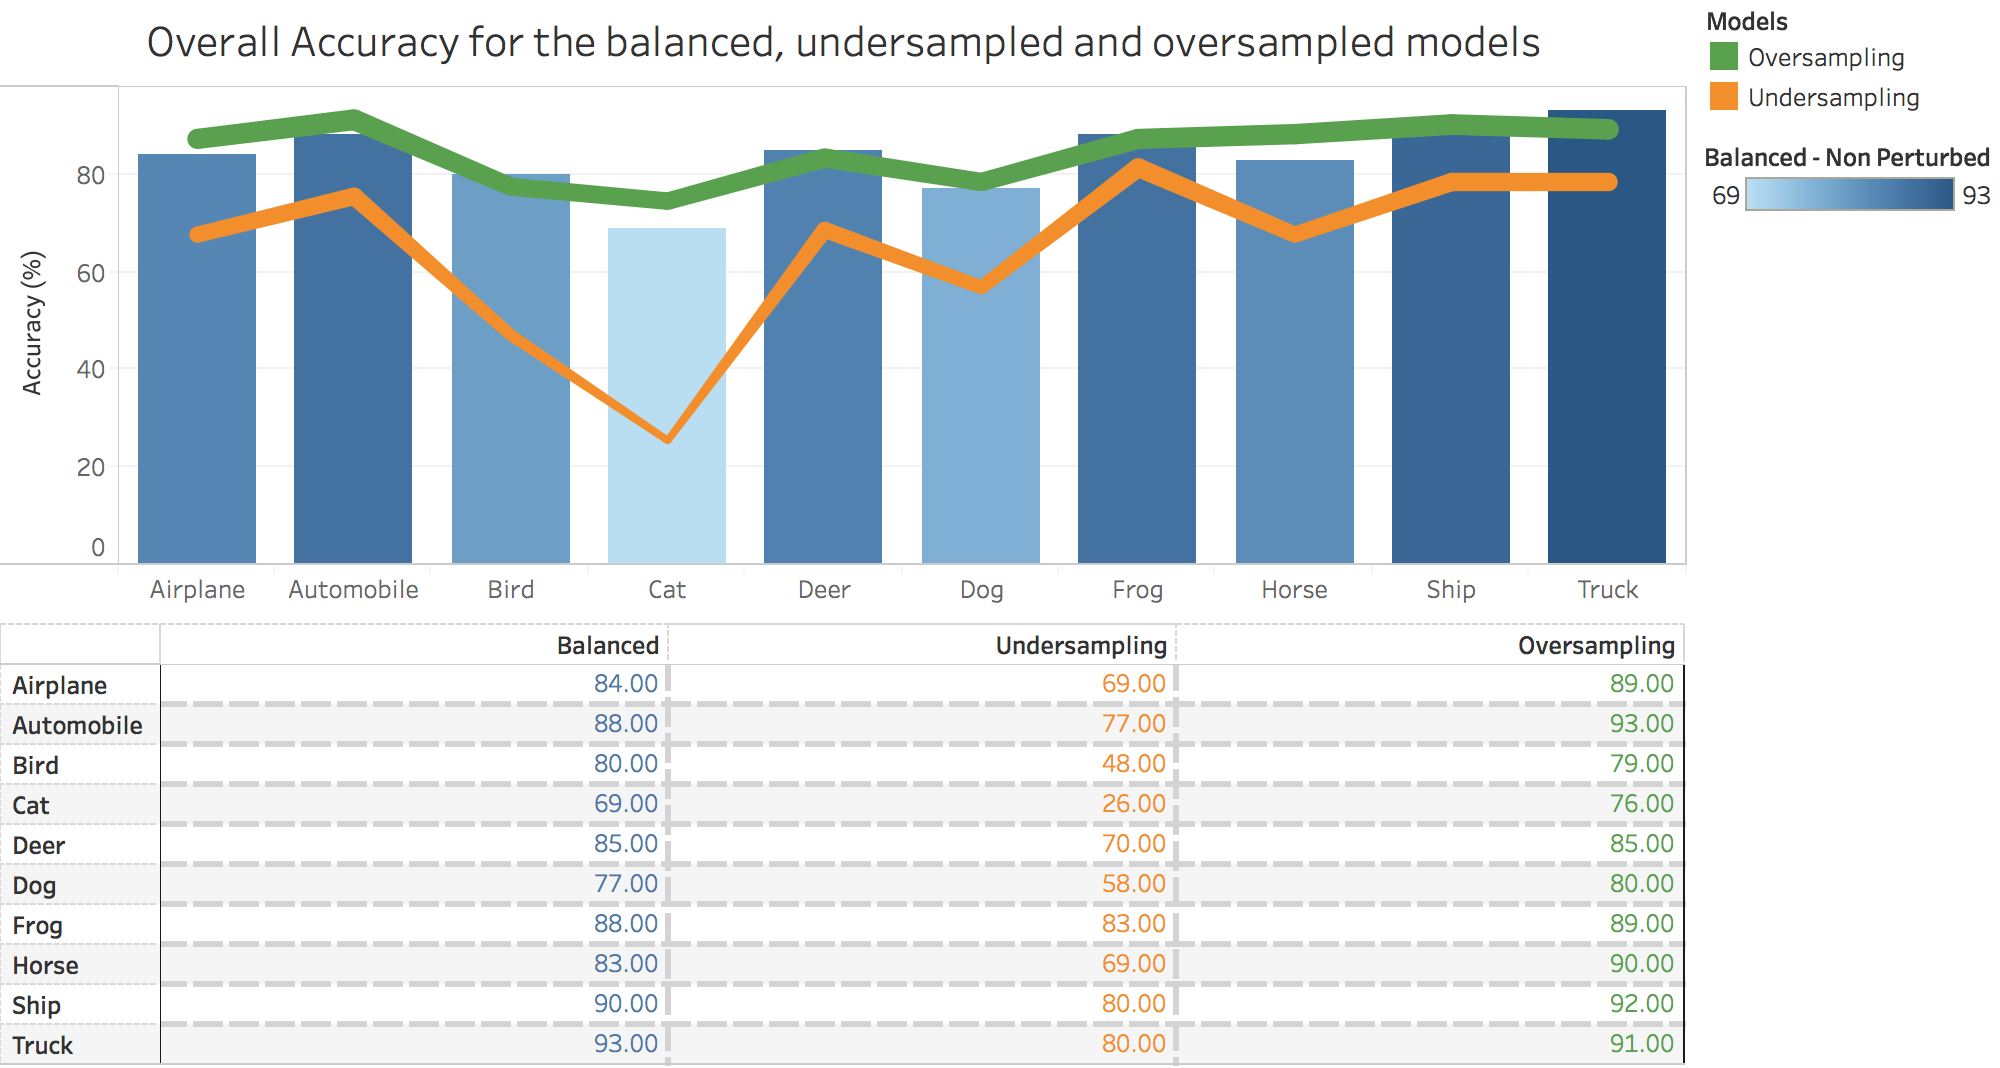

The page's visual inventory and layout, read from the dashboard file:
{"tool":"tableau","page":{"name":"Dashboard 1","canvas":[1016,550],"ordinal":0},"visuals":[{"type":"worksheet","title":"Sheet 1","mark":"Line","rows":["Balanced - Non Perturbed"],"cols":["F1"],"box":[0,0,856,316]},{"type":"legend","title":"Sheet 1","param":"[federated.0b02kaf1aqzqf712773081u4tukv].[:Measure Names]","box":[856,0,160,70]},{"type":"legend","title":"Sheet 1","param":"[federated.0b02kaf1aqzqf712773081u4tukv].[sum:Balanced - Non Perturbed:qk]","box":[856,70,160,65]},{"type":"worksheet","title":"Sheet 3","mark":"Automatic","rows":["F1"],"box":[0,316,856,234]}]}

Visuals, with their boxes in screenshot pixels (x1, y1, x2, y2), scaled from the page's 1016x550 canvas onto the 2000x1068 screenshot:
"Sheet 1" worksheet (Line marks): left=0, top=0, right=1685, bottom=614
"Sheet 1" legend: left=1685, top=0, right=1999, bottom=136
"Sheet 1" legend: left=1685, top=136, right=1999, bottom=262
"Sheet 3" worksheet: left=0, top=614, right=1685, bottom=1067
